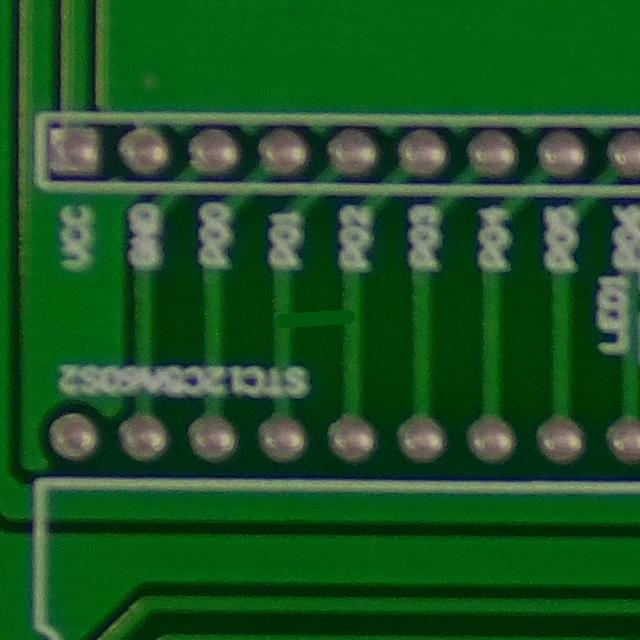short: (267, 291, 373, 350)
